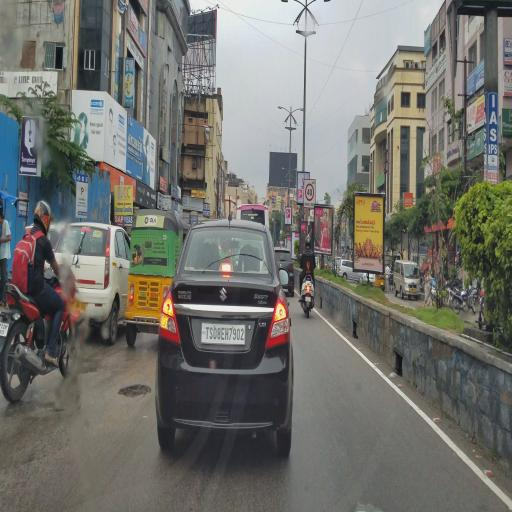street_light_0: (290, 101, 306, 123), (274, 100, 290, 122)
